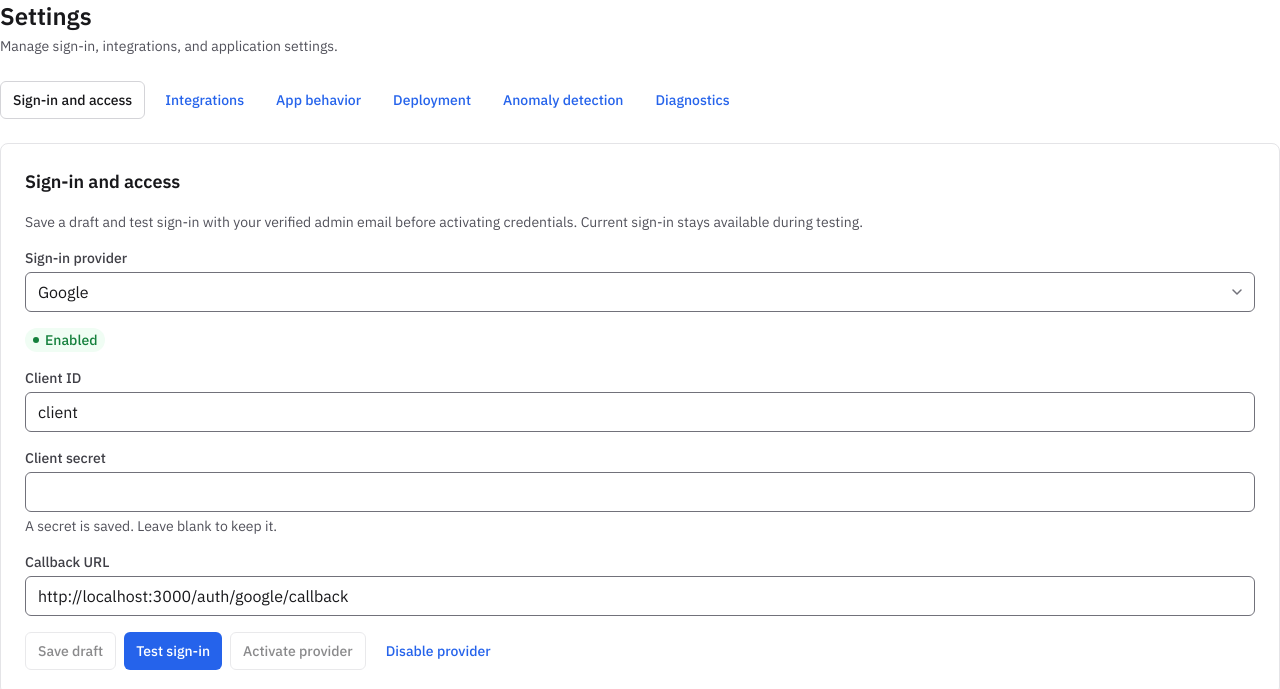
Scenario: Settings and installation › loads eXpress fields when the provider changes
The width and height of the screenshot is (1280, 689).
Expected: the field showing "client" is shown, [25, 392, 1255, 432]
Select "eXpress" in the dropdown labelled "Sign-in provider": point(640, 292) [25, 272, 1255, 312]
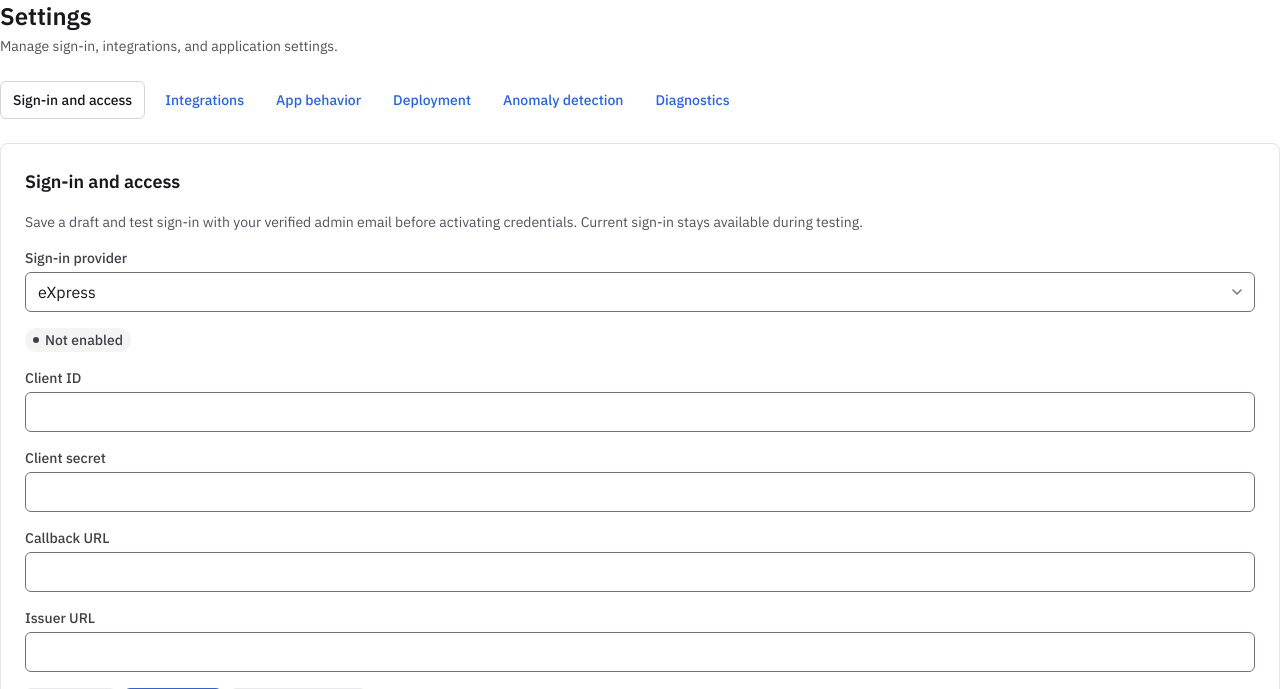
Expected: the field labelled "Issuer URL" is shown, [25, 632, 1255, 672]
